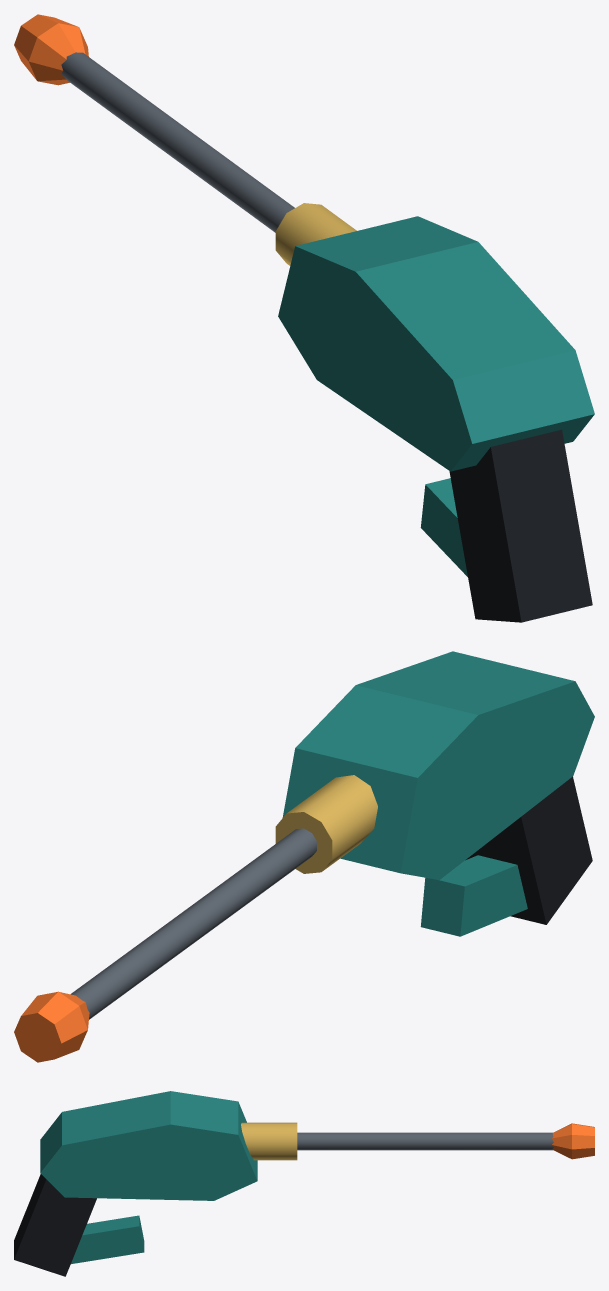
The model's file is pressure_washer.glb.
3 renders of one model, top to bottom at view 1: azimuth 30°, elevation 25°; view 2: azimuth 150°, elevation 25°; view 3: azimuth 270°, elevation 25°, orthographic. The views are drawn at different scales.
Parts seen in each view (by area): view 1: Merged; view 2: Merged; view 3: Merged.
Boxes of the visible parts, bbox=[...] form: Merged: bbox=[14, 14, 594, 622]; Merged: bbox=[14, 651, 594, 1062]; Merged: bbox=[14, 1091, 594, 1276].
Bounding box in the file's own units: 0.1023 × 0.2271 × 0.7501.
